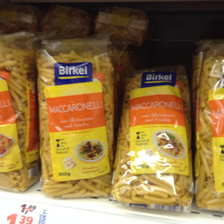pasta: (36, 38, 115, 196), (112, 64, 195, 209), (1, 33, 38, 191), (190, 42, 224, 212)
